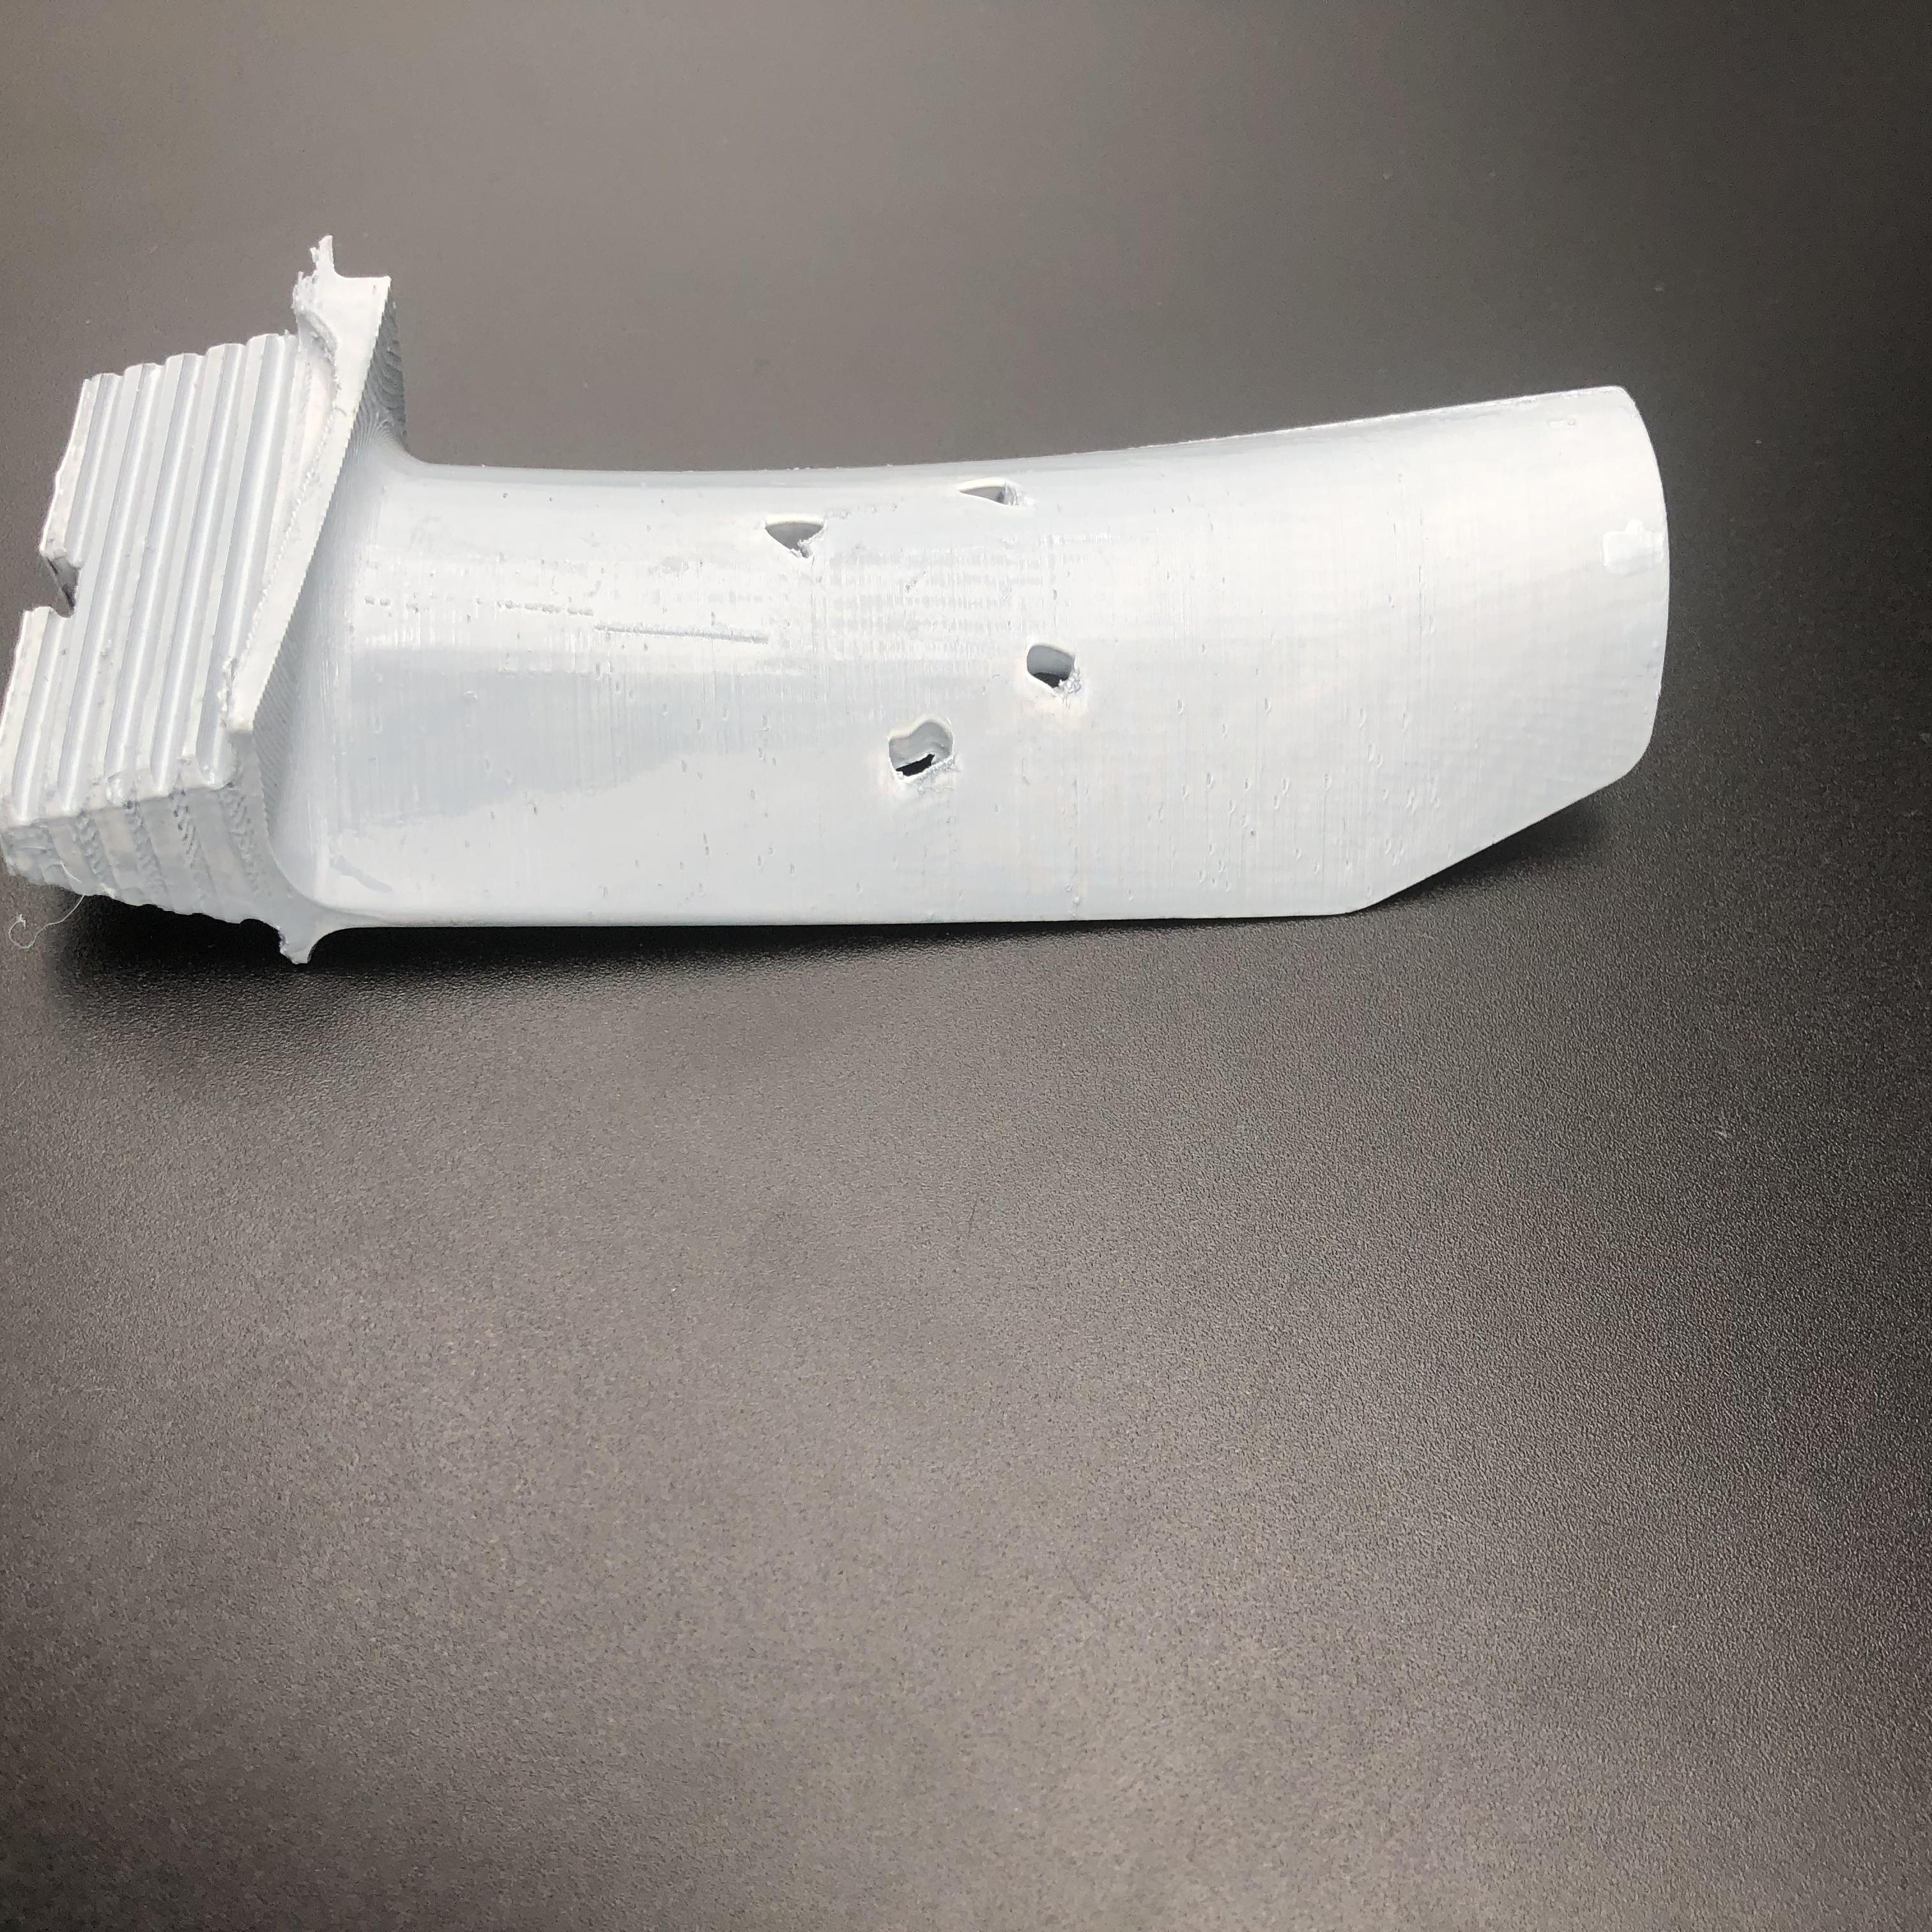breakdown: (745, 476, 1088, 786)
